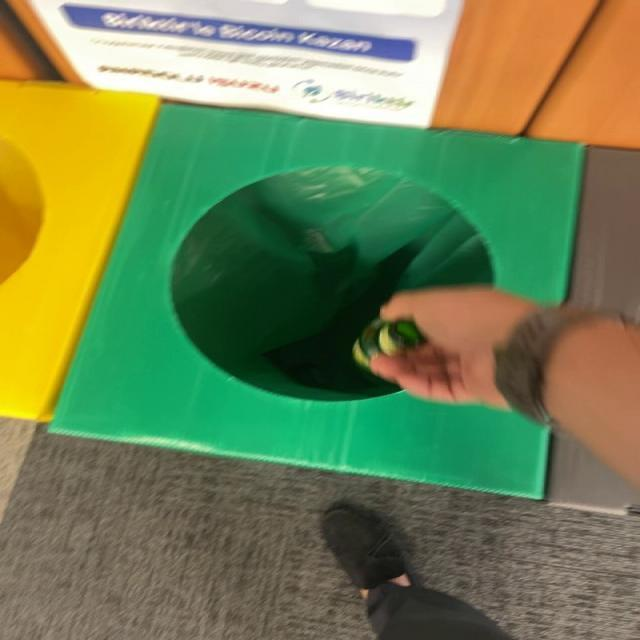Glass: (352, 318, 427, 368)
